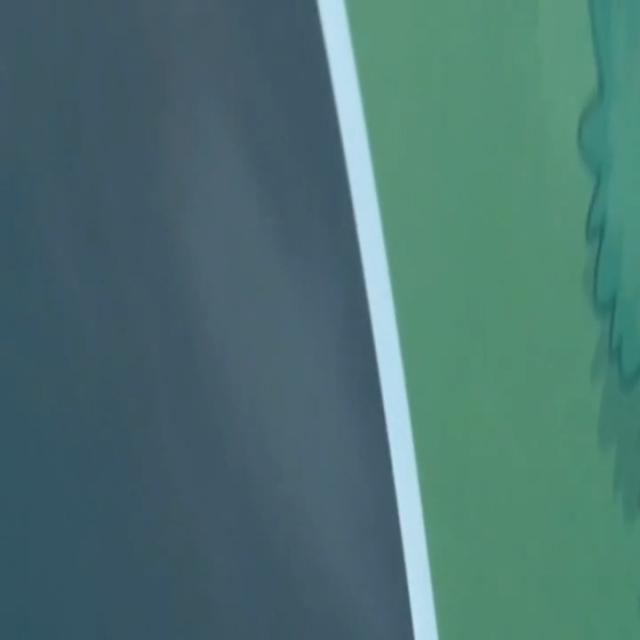right: (317, 0, 437, 639)
